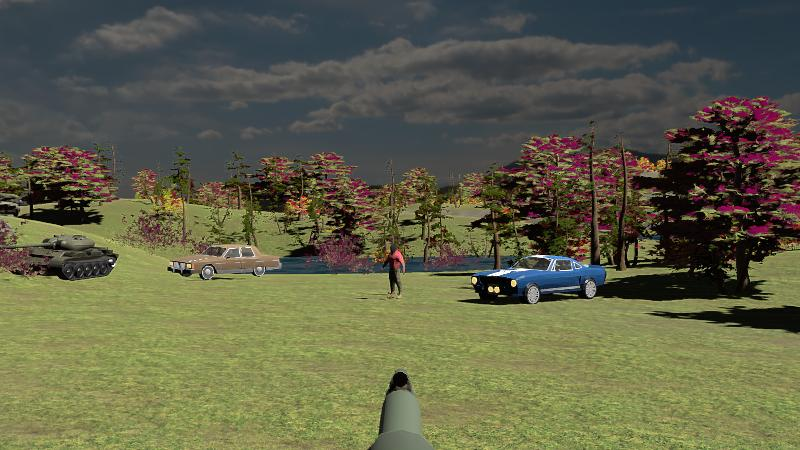Human: (383, 242, 404, 298)
Tank: (0, 233, 120, 281)
car: (471, 254, 607, 304), (168, 243, 281, 280)
